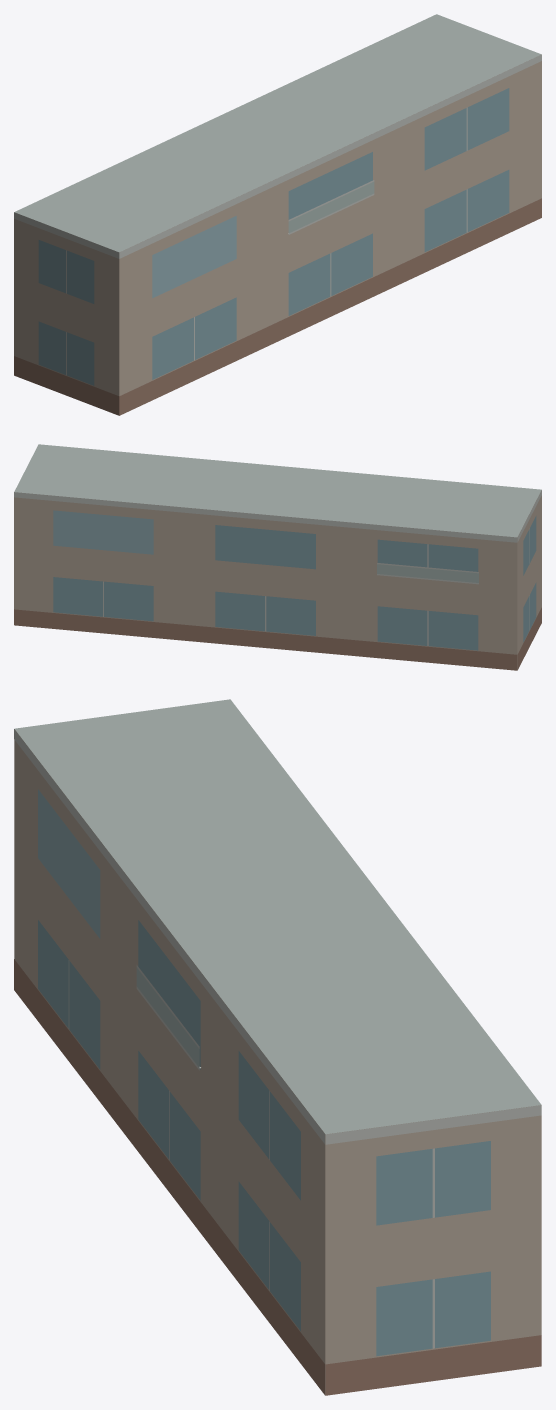
Rendered from survey-upis-32715536.glb.
3 views of the same model, one above another, from view 1: azimuth 30°, elevation 25°; view 2: azimuth 150°, elevation 25°; view 3: azimuth 270°, elevation 25° (orthographic). The views are drawn at different scales.
Visible parts, largest first — view 1: survey-upis-32715536.tmp; view 2: survey-upis-32715536.tmp; view 3: survey-upis-32715536.tmp.
Part boxes in pixels (box(x1,y1,x2,y2)): survey-upis-32715536.tmp: box(14, 14, 541, 415); survey-upis-32715536.tmp: box(14, 444, 541, 670); survey-upis-32715536.tmp: box(14, 699, 541, 1395).
Size of the model in its own units: 21.79 by 6.1 by 11.17.
